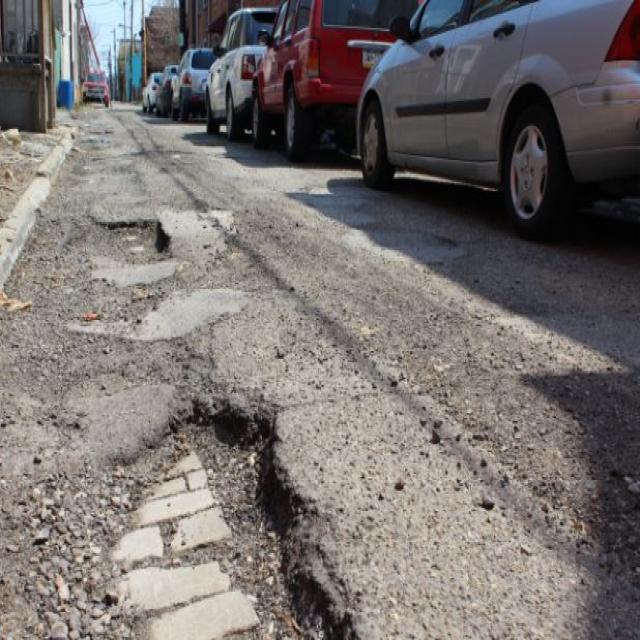pothole: (98, 370, 360, 638), (96, 208, 171, 263)
